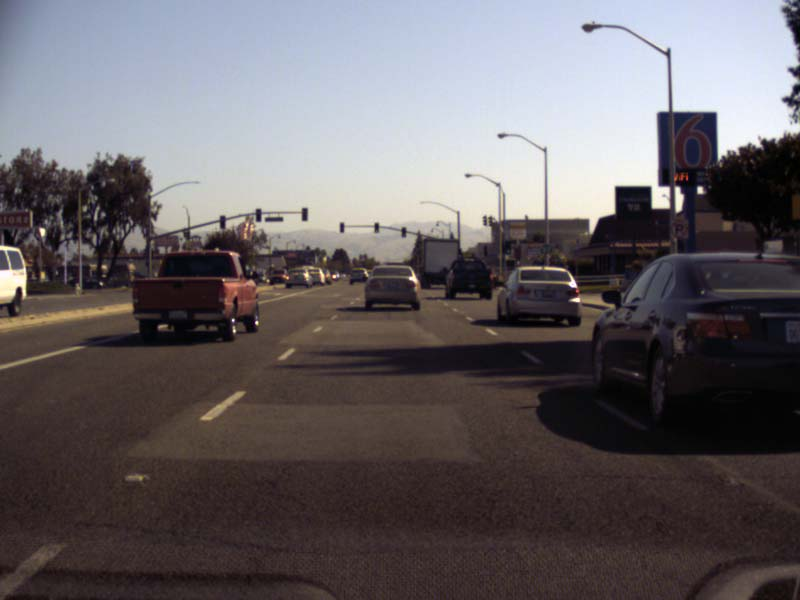Green: (401, 227, 406, 237), (374, 222, 378, 233), (339, 222, 343, 232)
